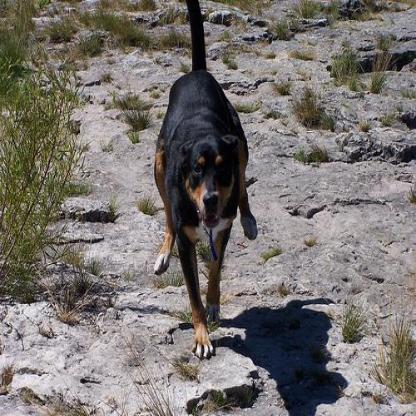Greater_Swiss_Mountain_dog: (148, 0, 260, 363)
